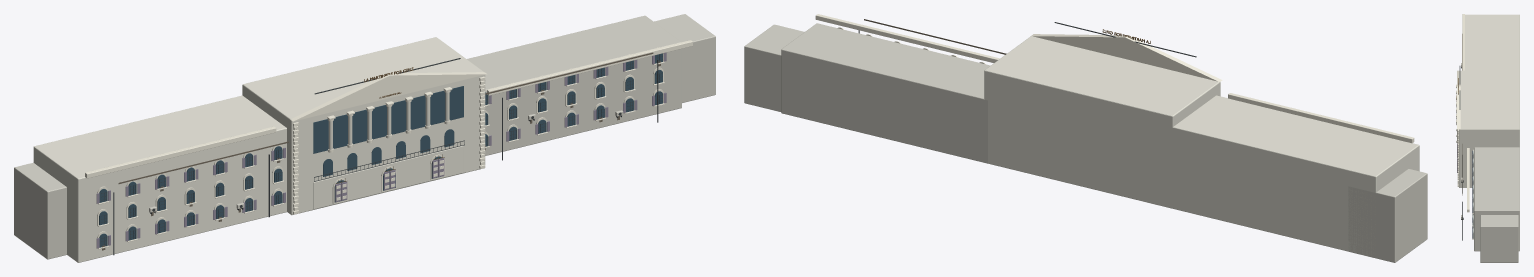
The model's file is girls.glb.
3 views of the same model, side by side, from view 1: azimuth 30°, elevation 25°; view 2: azimuth 150°, elevation 25°; view 3: azimuth 270°, elevation 25° (orthographic). The views are drawn at different scales.
Visible parts, largest first — view 1: LM_Girls_LeftWing, LM_Girls_CentralBay, LM_Girls_RightWing, LM_Girls_Left_Offset, LM_Girls_UpperColonnade_Shadow, LM_Girls_Lower_Arcade_Recess, LM_Girls_Right_Offset, LM_Girls_Pediment, LM_Girls_Parapet_L, LM_Girls_Parapet_R, LM_Girls_Roofline_Weathering; view 2: LM_Girls_LeftWing, LM_Girls_CentralBay, LM_Girls_RightWing, LM_Girls_Left_Offset, LM_Girls_Right_Offset, LM_Girls_Pediment, LM_Girls_Parapet_L, LM_Girls_Parapet_R; view 3: LM_Girls_CentralBay, LM_Girls_RightWing, LM_Girls_LeftWing, LM_Girls_Right_Offset, LM_Girls_Pediment, LM_Girls_Parapet_R, LM_Girls_Parapet_L, LM_Girls_Roofline_Weathering, LM_Girls_RoofSign_Base.
Part boxes in pixels (x1,y1,x2,y2): LM_Girls_LeftWing: (33, 95, 286, 262); LM_Girls_CentralBay: (242, 37, 485, 215); LM_Girls_RightWing: (467, 15, 681, 155); LM_Girls_Left_Offset: (14, 162, 66, 259); LM_Girls_UpperColonnade_Shadow: (313, 86, 463, 153); LM_Girls_Lower_Arcade_Recess: (313, 145, 463, 209); LM_Girls_Right_Offset: (654, 14, 715, 102); LM_Girls_Pediment: (290, 72, 486, 121); LM_Girls_Parapet_L: (85, 126, 276, 178); LM_Girls_Parapet_R: (487, 40, 692, 95); LM_Girls_Roofline_Weathering: (118, 52, 653, 183); LM_Girls_LeftWing: (1150, 95, 1419, 255); LM_Girls_CentralBay: (984, 35, 1220, 202); LM_Girls_RightWing: (781, 23, 990, 163); LM_Girls_Left_Offset: (1348, 169, 1427, 262); LM_Girls_Right_Offset: (744, 24, 804, 111); LM_Girls_Pediment: (1031, 34, 1222, 82); LM_Girls_Parapet_L: (1228, 93, 1414, 143); LM_Girls_Parapet_R: (815, 14, 999, 62); LM_Girls_CentralBay: (1459, 70, 1519, 187); LM_Girls_RightWing: (1474, 147, 1519, 251); LM_Girls_LeftWing: (1465, 14, 1519, 70); LM_Girls_Right_Offset: (1480, 215, 1518, 262); LM_Girls_Pediment: (1457, 70, 1460, 129); LM_Girls_Parapet_R: (1467, 148, 1469, 212); LM_Girls_Parapet_L: (1462, 14, 1464, 70); LM_Girls_Roofline_Weathering: (1462, 34, 1462, 195); LM_Girls_RoofSign_Base: (1459, 66, 1460, 109).
Bounding box in the file's own units: 138 × 23.4 × 18.41.
